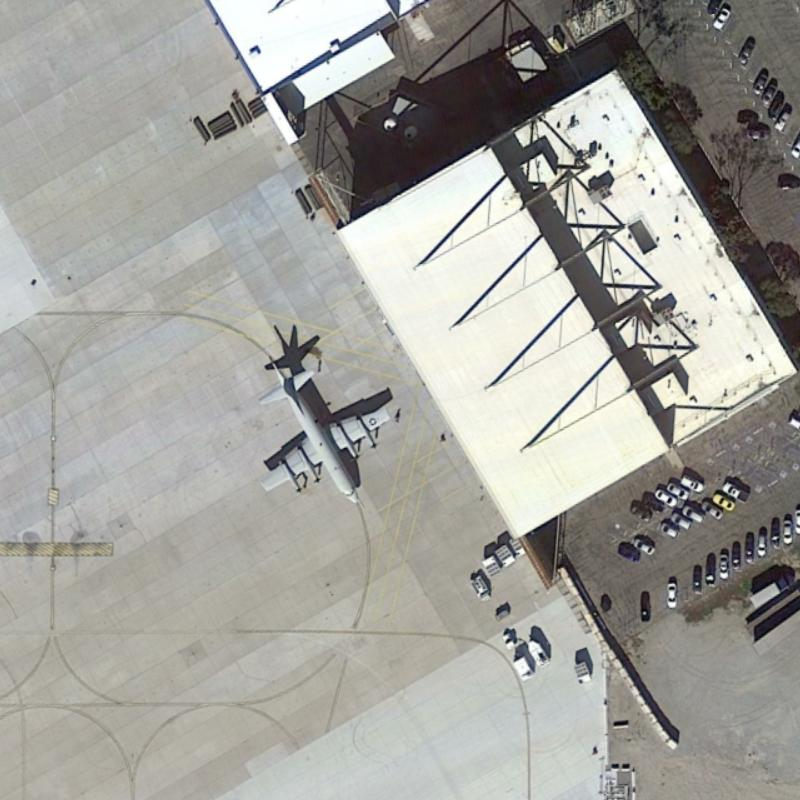A9: (249, 344, 395, 504)
